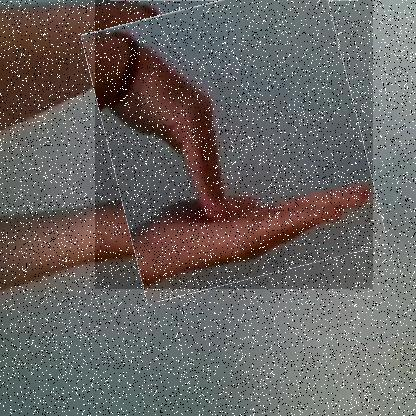Z: (95, 0, 374, 290)
